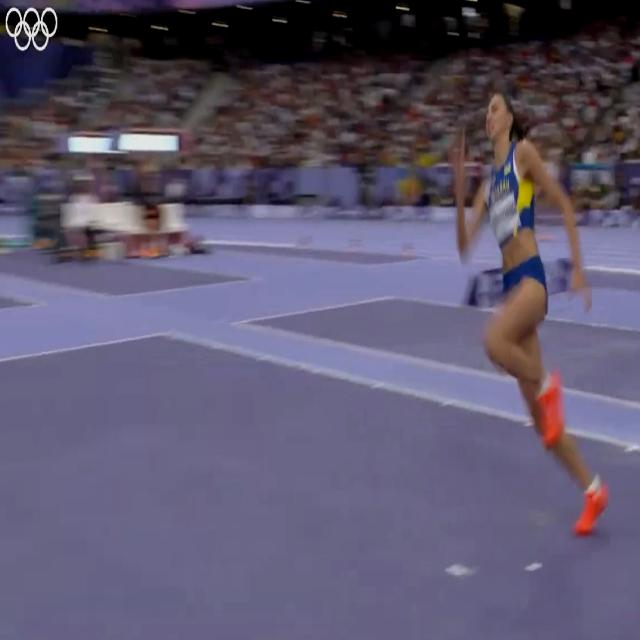run: (451, 89, 605, 537)
